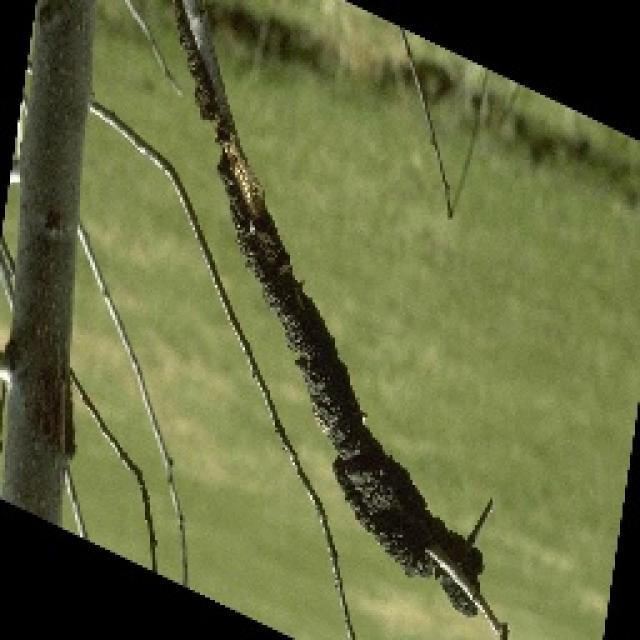Black_knot: (142, 50, 550, 604)
